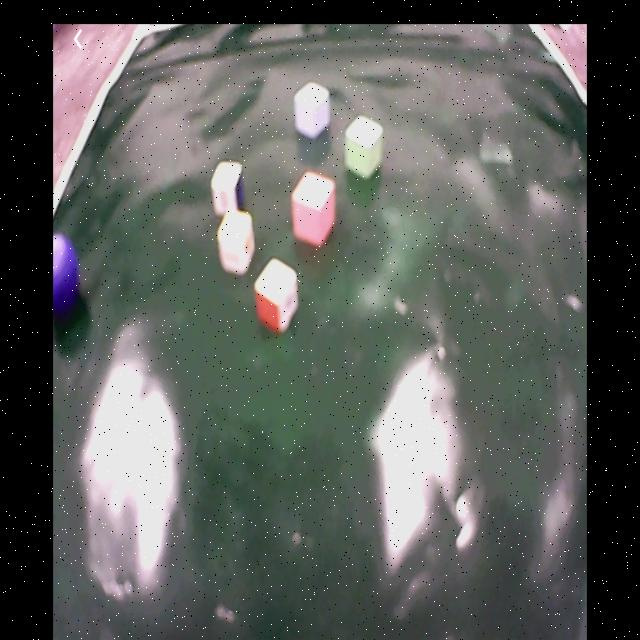ball: (54, 232, 81, 321)
